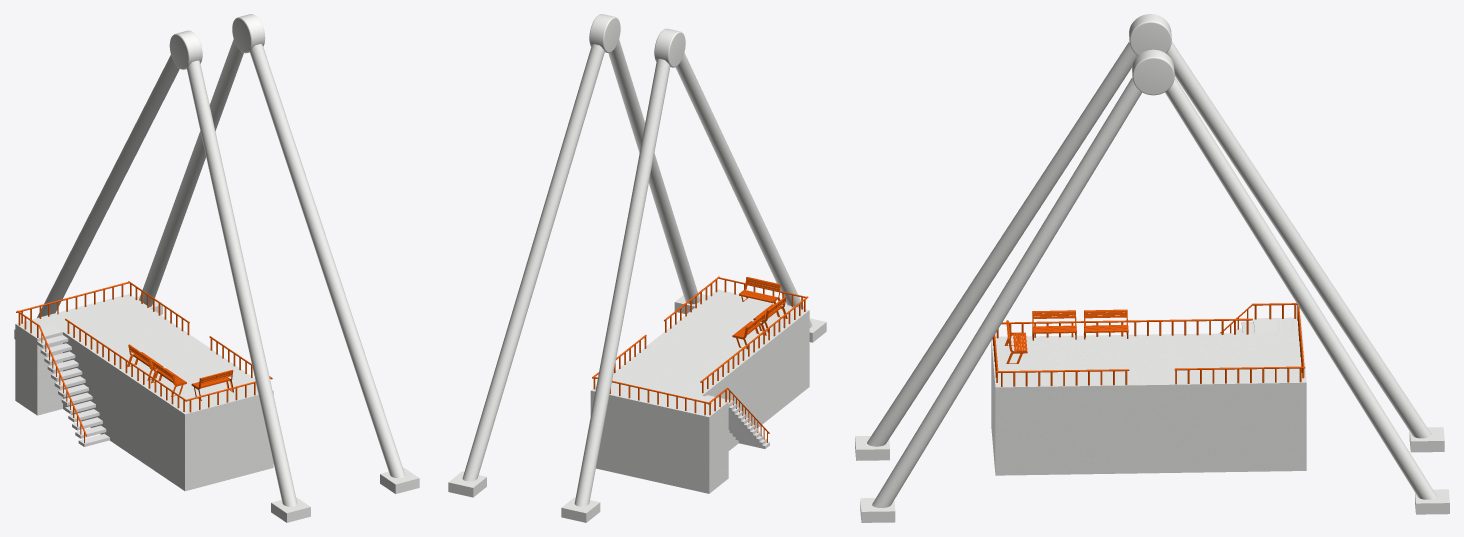
3 renders of one model, left to right at view 1: azimuth 30°, elevation 25°; view 2: azimuth 150°, elevation 25°; view 3: azimuth 270°, elevation 25°, orthographic. The views are drawn at different scales.
Visible parts, largest first — view 1: base_Mat.012, base_Mat.013, base_01_-_Default.001, base_Multishader.002; view 2: base_Mat.012, base_Mat.013, base_01_-_Default.001, base_Multishader.002; view 3: base_Mat.012, base_Mat.013, base_01_-_Default.001.
Part boxes in pixels (x1,y1,x2,y2): base_Mat.012: (14,293,419,522); base_Mat.013: (37,14,405,506); base_01_-_Default.001: (16,281,272,443); base_Multishader.002: (37,335,109,446); base_Mat.012: (448,289,826,522); base_Mat.013: (462,14,812,506); base_01_-_Default.001: (592,276,808,442); base_Multishader.002: (705,395,769,448); base_Mat.012: (855,317,1449,522); base_Mat.013: (867,14,1436,507); base_01_-_Default.001: (992,303,1305,386).
Size of the model in its own units: 4.16 by 7.28 by 8.78.
